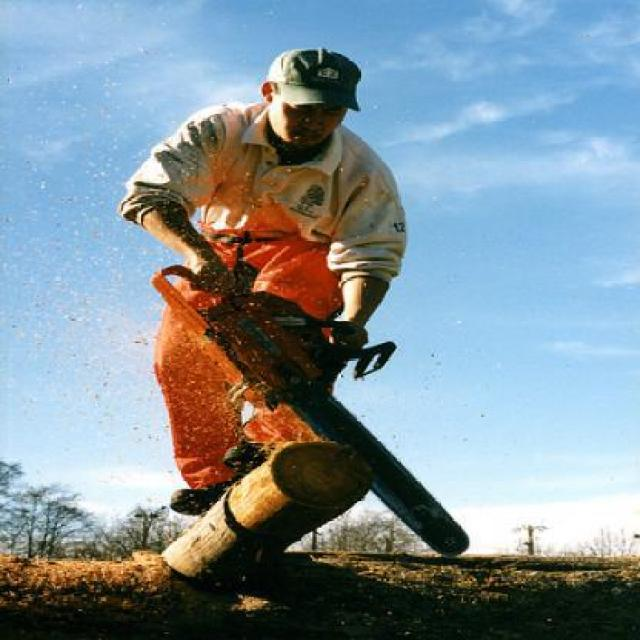Chainsaw: (151, 264, 472, 561)
